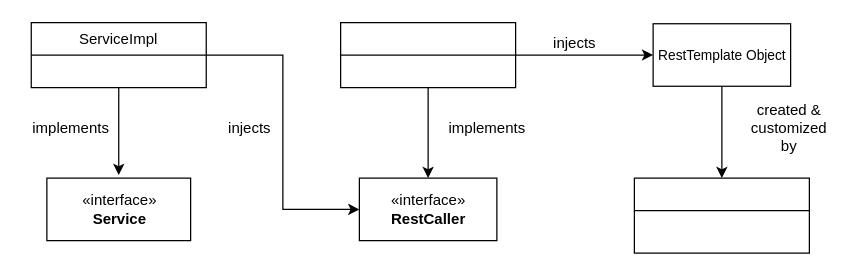
Some shapes in this 853 by 275 pixel diagram are drawn without their labels. Each missing label, with the centre of its shape:
"RestCallerImpl" belongs at point 427,54.
"RestTemplateConfig" belongs at point 721,215.
